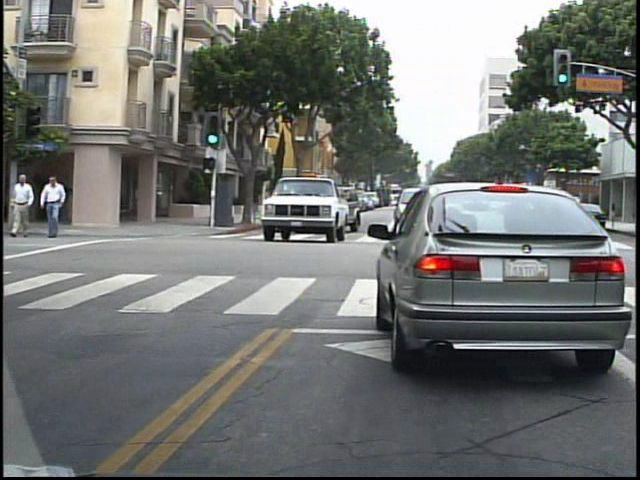person: (15, 169, 45, 242), (46, 173, 74, 241)
